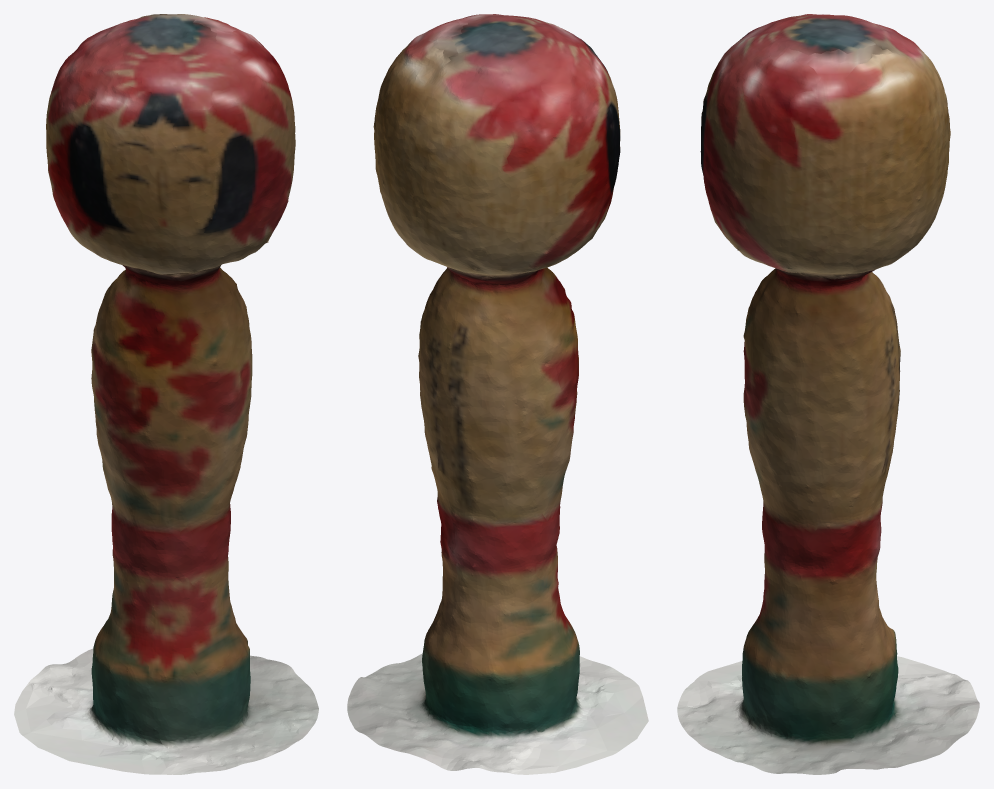
File: kokeshi005.glb
The picture shows the model from 3 angles, left to right: view 1: azimuth 30°, elevation 25°; view 2: azimuth 150°, elevation 25°; view 3: azimuth 270°, elevation 25°; orthographic projection.
Visible parts, largest first — view 1: mesh; view 2: mesh; view 3: mesh.
Boxes of the visible parts, <box> form: mesh: <box>14,14,318,774</box>; mesh: <box>347,14,648,774</box>; mesh: <box>677,14,979,774</box>.
Bounding box in the file's own units: 0.0995 × 0.2436 × 0.0977.
1 material, 1 textured.
